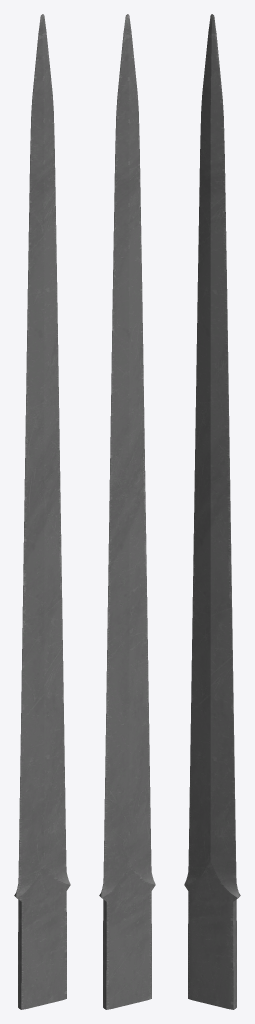
Rendered from wm_witch_king_sword_blade.fbx.
3 renders of one model, left to right at view 1: azimuth 30°, elevation 25°; view 2: azimuth 210°, elevation 25°; view 3: azimuth 330°, elevation 25°, orthographic.
Visible parts, largest first — view 1: wm_witch_king_sword_blade; view 2: wm_witch_king_sword_blade; view 3: wm_witch_king_sword_blade.
Boxes of the visible parts, <box> form: wm_witch_king_sword_blade: <box>14,14,70,1009</box>; wm_witch_king_sword_blade: <box>99,14,155,1009</box>; wm_witch_king_sword_blade: <box>184,14,240,1009</box>.
Bounding box in the file's own units: 0.0676 × 0.00904 × 1.19.
